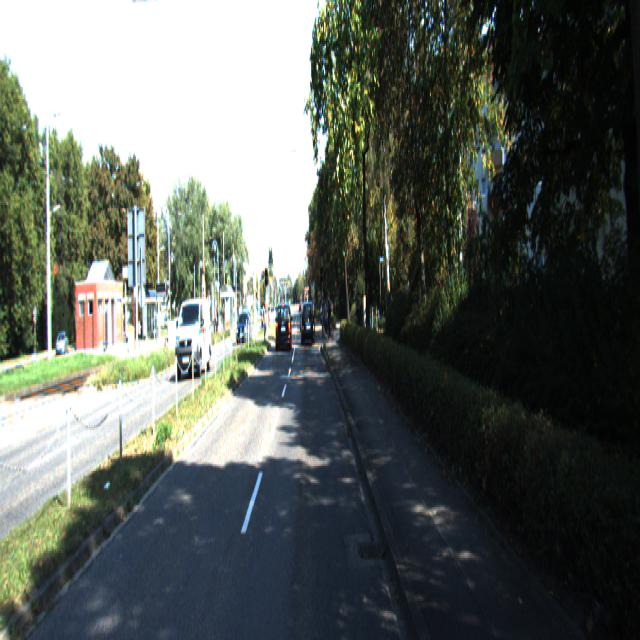Car: (176, 296, 213, 376), (276, 303, 292, 352), (302, 300, 316, 346), (236, 312, 250, 346)
